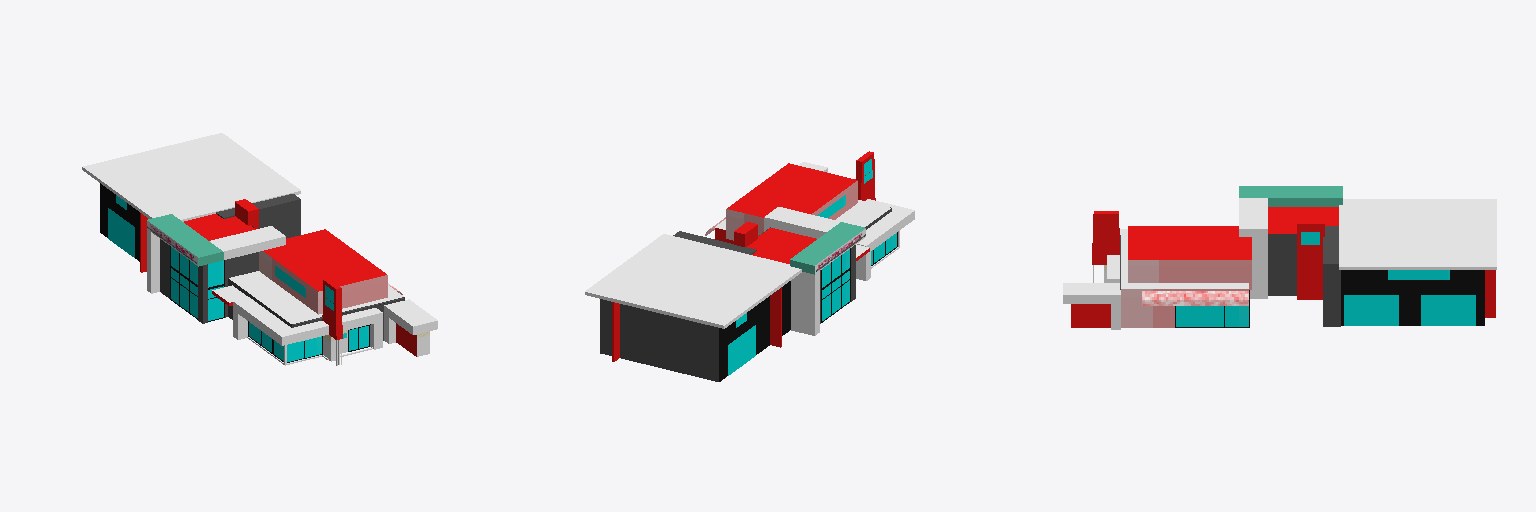
3 renders of one model, left to right at view 1: azimuth 30°, elevation 25°; view 2: azimuth 150°, elevation 25°; view 3: azimuth 270°, elevation 25°, orthographic.
Parts seen in each view (by area): view 1: part1model:white, part1model:Roof, part2alphamodel:glass, part1model:cleargrey, part1model:Red, part1model:stripes, part1model:asphalt, part2alphamodel:Regroup01, part1model:greywithstripes, part1model:bigwallstripes, part1model:black, part1model:stonelong; view 2: part1model:white, part1model:greywithstripes, part1model:Roof, part1model:Red, part1model:bigwallstripes, part2alphamodel:glass, part2alphamodel:Regroup01, part1model:stripes, part1model:cleargrey, part1model:asphalt; view 3: part1model:white, part1model:Roof, part1model:Red, part1model:stripes, part2alphamodel:Regroup01, part1model:bigwallstripes, part1model:cleargrey, part1model:tent, part2alphamodel:glass, part1model:asphalt, part1model:greywithstripes.
Part boxes in pixels (left/top/right/bottom): part1model:white: left=82, top=133, right=437, bottom=349; part1model:Roof: left=184, top=214, right=386, bottom=291; part2alphamodel:glass: left=171, top=247, right=368, bottom=361; part1model:cleargrey: left=198, top=194, right=404, bottom=340; part1model:Red: left=140, top=199, right=416, bottom=356; part1model:stripes: left=259, top=251, right=387, bottom=314; part1model:asphalt: left=229, top=271, right=403, bottom=323; part2alphamodel:Regroup01: left=108, top=195, right=346, bottom=338; part1model:greywithstripes: left=160, top=239, right=258, bottom=317; part1model:bigwallstripes: left=100, top=183, right=139, bottom=261; part1model:black: left=170, top=246, right=370, bottom=362; part1model:stonelong: left=323, top=330, right=429, bottom=360; part1model:white: left=585, top=162, right=914, bottom=335; part1model:greywithstripes: left=600, top=270, right=820, bottom=381; part1model:Roof: left=727, top=163, right=857, bottom=263; part1model:Red: left=612, top=151, right=875, bottom=361; part1model:bigwallstripes: left=719, top=281, right=790, bottom=381; part2alphamodel:glass: left=822, top=233, right=896, bottom=320; part2alphamodel:Regroup01: left=728, top=159, right=872, bottom=375; part1model:stripes: left=726, top=181, right=857, bottom=240; part1model:cleargrey: left=673, top=208, right=891, bottom=301; part1model:asphalt: left=715, top=200, right=890, bottom=229; part1model:white: left=1063, top=186, right=1496, bottom=329; part1model:Roof: left=1128, top=207, right=1338, bottom=259; part1model:Red: left=1071, top=211, right=1495, bottom=327; part1model:stripes: left=1121, top=260, right=1251, bottom=327; part2alphamodel:Regroup01: left=1301, top=232, right=1475, bottom=325; part1model:bigwallstripes: left=1341, top=270, right=1484, bottom=325; part1model:cleargrey: left=1268, top=226, right=1340, bottom=326; part1model:tent: left=1142, top=291, right=1248, bottom=305; part2alphamodel:glass: left=1176, top=306, right=1248, bottom=326; part1model:asphalt: left=1121, top=234, right=1248, bottom=288; part1model:greywithstripes: left=1268, top=262, right=1296, bottom=295.
Size of the model in its own units: 18.82 by 8.73 by 44.83.
1 materials, 1 textured.